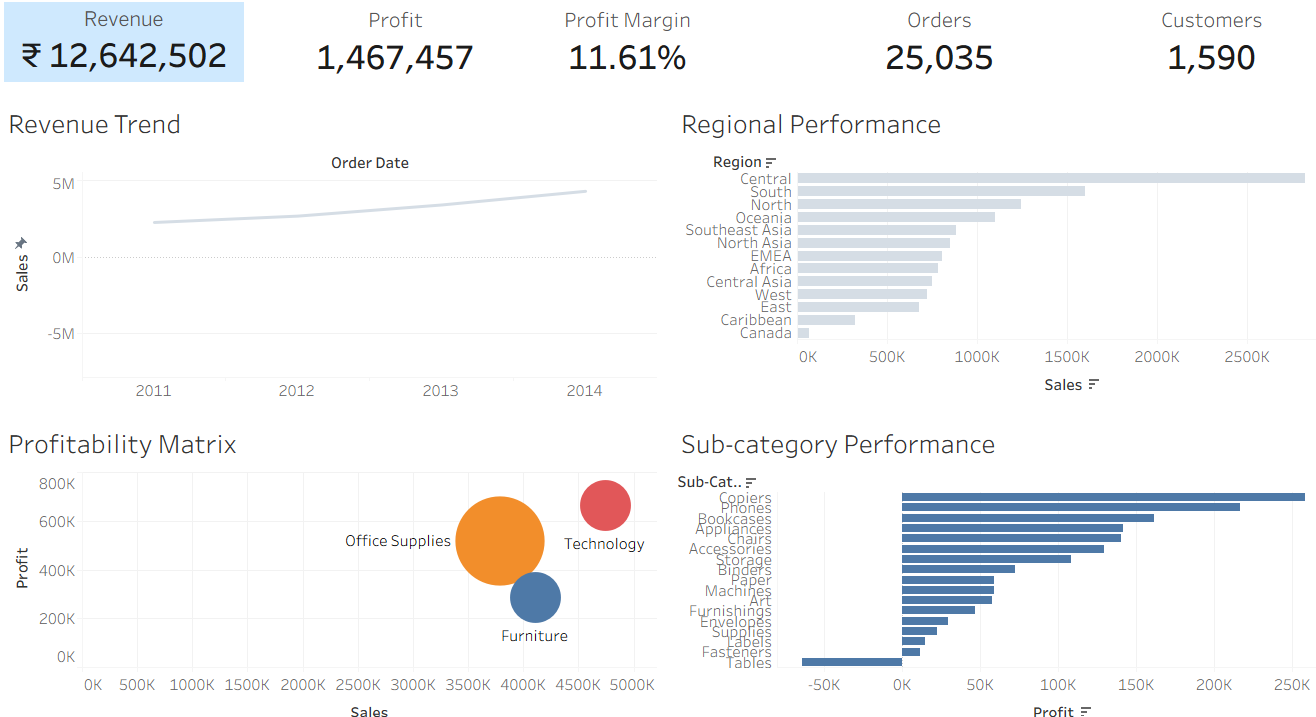

The page's visual inventory and layout, read from the dashboard file:
{"tool":"tableau","page":{"name":"Dashboard 1","canvas":[1366,768],"ordinal":0},"visuals":[{"type":"worksheet","title":"Revenue","mark":"Automatic","box":[20,20,240,80]},{"type":"worksheet","title":"Profit","mark":"Automatic","box":[292,20,240,80]},{"type":"worksheet","title":"Profit Margin","mark":"Automatic","box":[524,20,240,80]},{"type":"worksheet","title":"Orders","mark":"Automatic","box":[836,20,240,80]},{"type":"worksheet","title":"Customers","mark":"Automatic","box":[1108,20,240,80]},{"type":"worksheet","title":"Revenue Trend","mark":"Automatic","rows":["Sales"],"cols":["Order Date"],"box":[20,120,653,300]},{"type":"worksheet","title":"Regional Performance","mark":"Automatic","rows":["Region"],"cols":["Sales"],"box":[693,120,653,300]},{"type":"worksheet","title":"Profitability Matrix","mark":"Circle","rows":["Profit"],"cols":["Sales"],"box":[20,440,653,308]},{"type":"worksheet","title":"Sub-category Performance","mark":"Automatic","rows":["Sub-Category"],"cols":["Profit"],"box":[693,440,653,308]}]}

Visuals, with their boxes on the page's 1366x768 design canvas (x1, y1, x2, y2). These are canvas units, not pixel positions in the 1316x717 screenshot, which may show the page scaled, cropped or inside an application window:
"Revenue" worksheet: bbox=(20, 20, 260, 100)
"Profit" worksheet: bbox=(292, 20, 532, 100)
"Profit Margin" worksheet: bbox=(524, 20, 764, 100)
"Orders" worksheet: bbox=(836, 20, 1076, 100)
"Customers" worksheet: bbox=(1108, 20, 1348, 100)
"Revenue Trend" worksheet: bbox=(20, 120, 673, 420)
"Regional Performance" worksheet: bbox=(693, 120, 1346, 420)
"Profitability Matrix" worksheet (Circle marks): bbox=(20, 440, 673, 748)
"Sub-category Performance" worksheet: bbox=(693, 440, 1346, 748)
